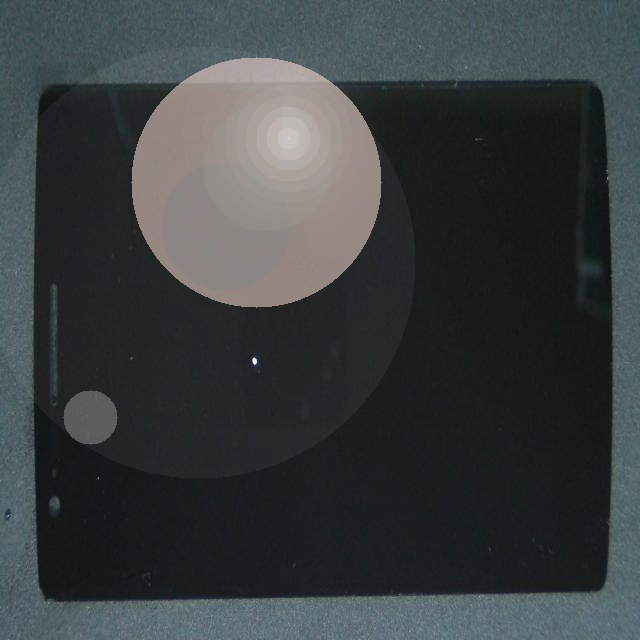stain: (92, 177, 362, 574)
